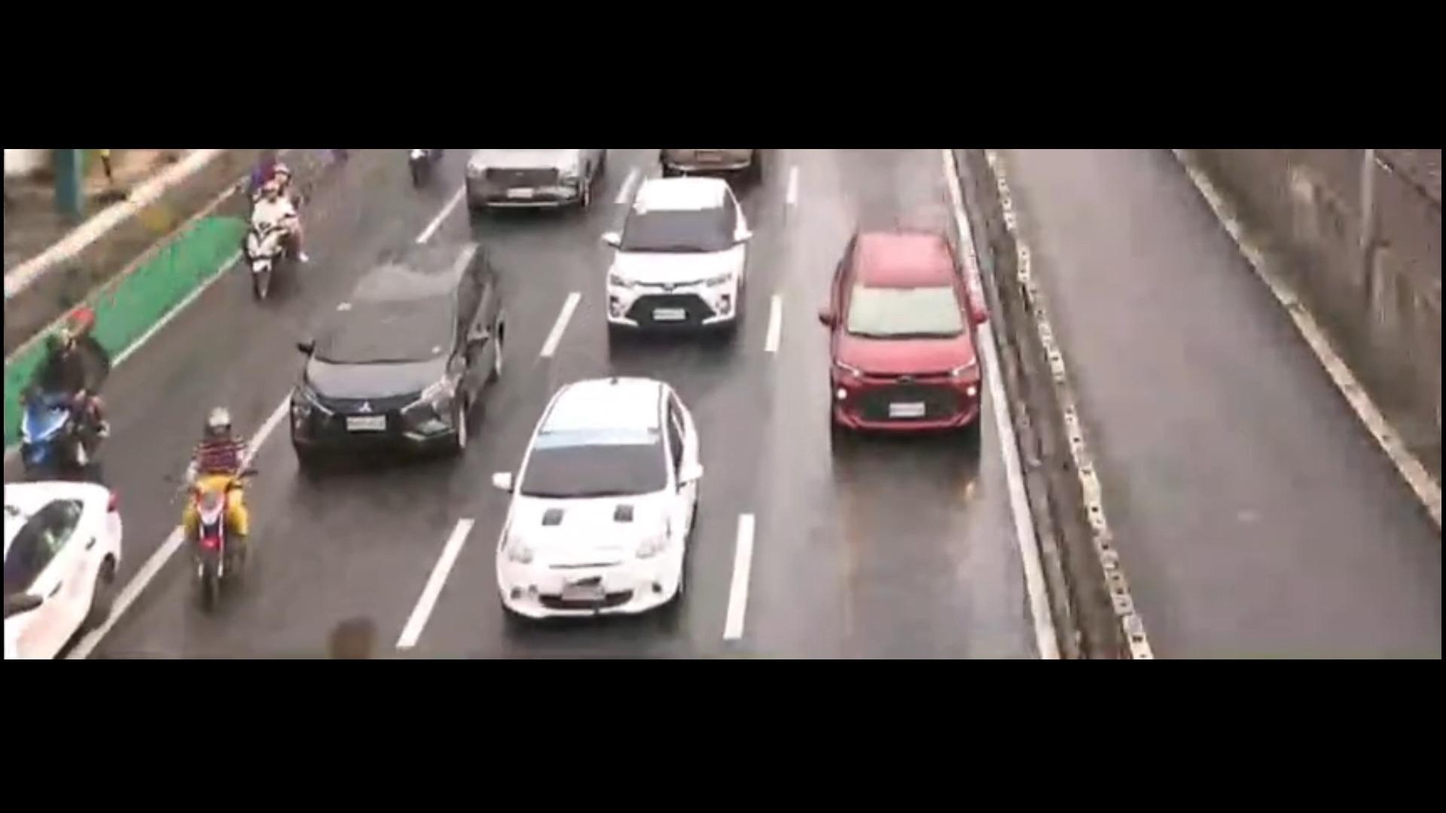Motorcycle: (6, 307, 115, 491), (186, 399, 258, 610), (232, 156, 307, 318)
SUV: (297, 243, 493, 446), (825, 224, 994, 450), (610, 184, 746, 337)
Sedan: (497, 375, 702, 614), (0, 484, 132, 651), (453, 145, 619, 211)
